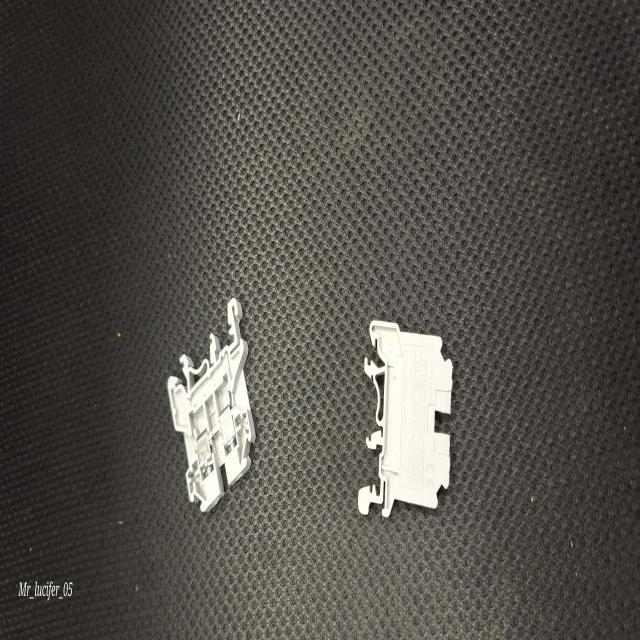Inverted: (356, 318, 453, 519)
Pass: (165, 294, 256, 520)
